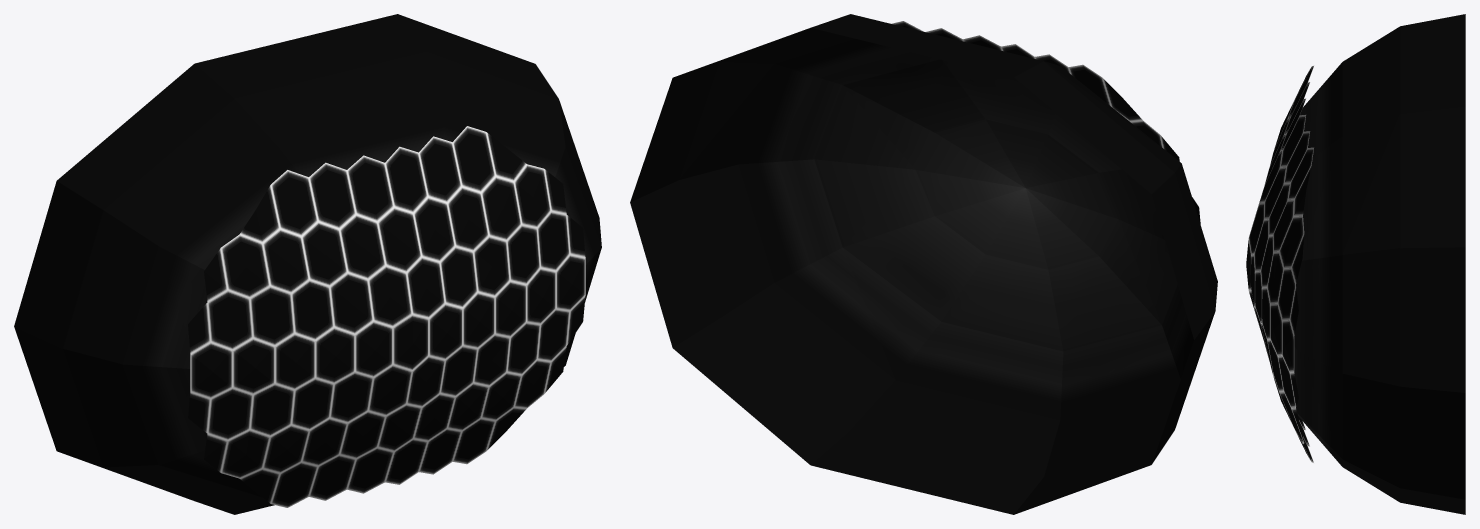
File: emd_sp316_barrier.obj
The picture shows the model from 3 angles, left to right: view 1: azimuth 30°, elevation 25°; view 2: azimuth 150°, elevation 25°; view 3: azimuth 270°, elevation 25°; orthographic projection. The views are drawn at different scales.
Parts seen in each view (by area): view 1: _meshIndex0, _meshIndex1; view 2: _meshIndex1, _meshIndex0; view 3: _meshIndex1, _meshIndex0.
Part boxes in pixels (x1,y1,x2,y2): _meshIndex0: (188,126,585,507); _meshIndex1: (14,14,601,514); _meshIndex1: (630,14,1217,514); _meshIndex0: (891,21,1200,224); _meshIndex1: (1294,14,1465,514); _meshIndex0: (1246,66,1313,462).
Bounding box in the file's own units: 3.92 × 2.91 × 1.42.
1 material, 1 textured.
